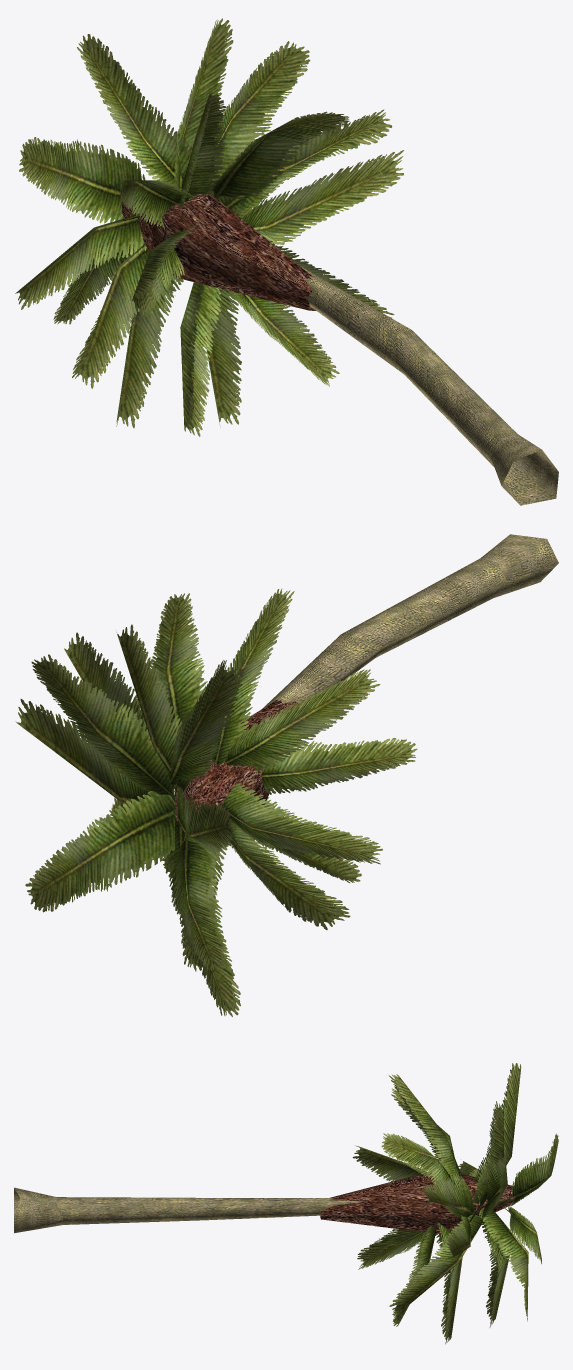
The model's file is palm_date_b.glb.
3 views of the same model, one above another, from view 1: azimuth 30°, elevation 25°; view 2: azimuth 150°, elevation 25°; view 3: azimuth 270°, elevation 25° (orthographic). The views are drawn at different scales.
Bounding box in the file's own units: 12.69 × 12.95 × 22.7.
1 material, 1 textured.
